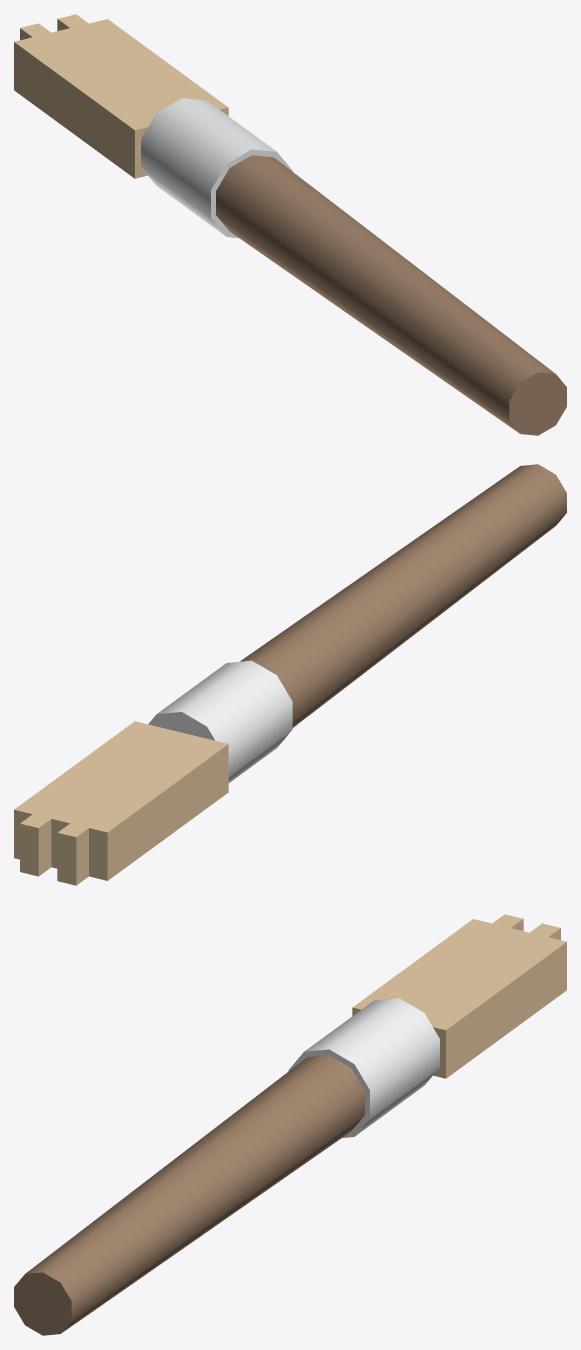
The model's file is tool-brush.glb.
3 views of the same model, one above another, from view 1: azimuth 30°, elevation 25°; view 2: azimuth 150°, elevation 25°; view 3: azimuth 330°, elevation 25° (orthographic).
Parts seen in each view (by area): view 1: body; view 2: body; view 3: body.
Boxes of the visible parts, x1,y1,x2,y2 form: body: (14, 14, 566, 435); body: (14, 464, 566, 885); body: (14, 914, 566, 1335).
Size of the model in its own units: 0.017 by 0.0156 by 0.154.
